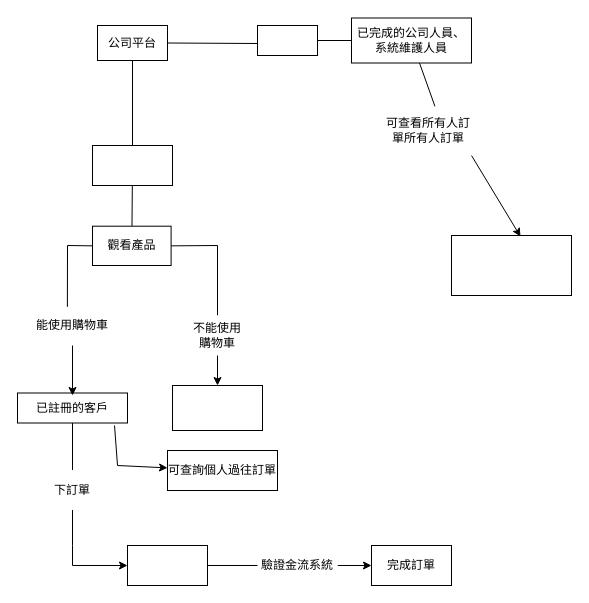
This 589x603 diagram has some shape labels left out. The shapes that lost their labels are listed below. From the top down, each one's centre as x and y in pixels, then its label:
At (x=287, y=40): "後台".
At (x=132, y=165): "前台".
At (x=511, y=265): "可修改訂單狀態".
At (x=217, y=407): "未註冊的瀏覽者".
At (x=167, y=565): "白公主銀行".
